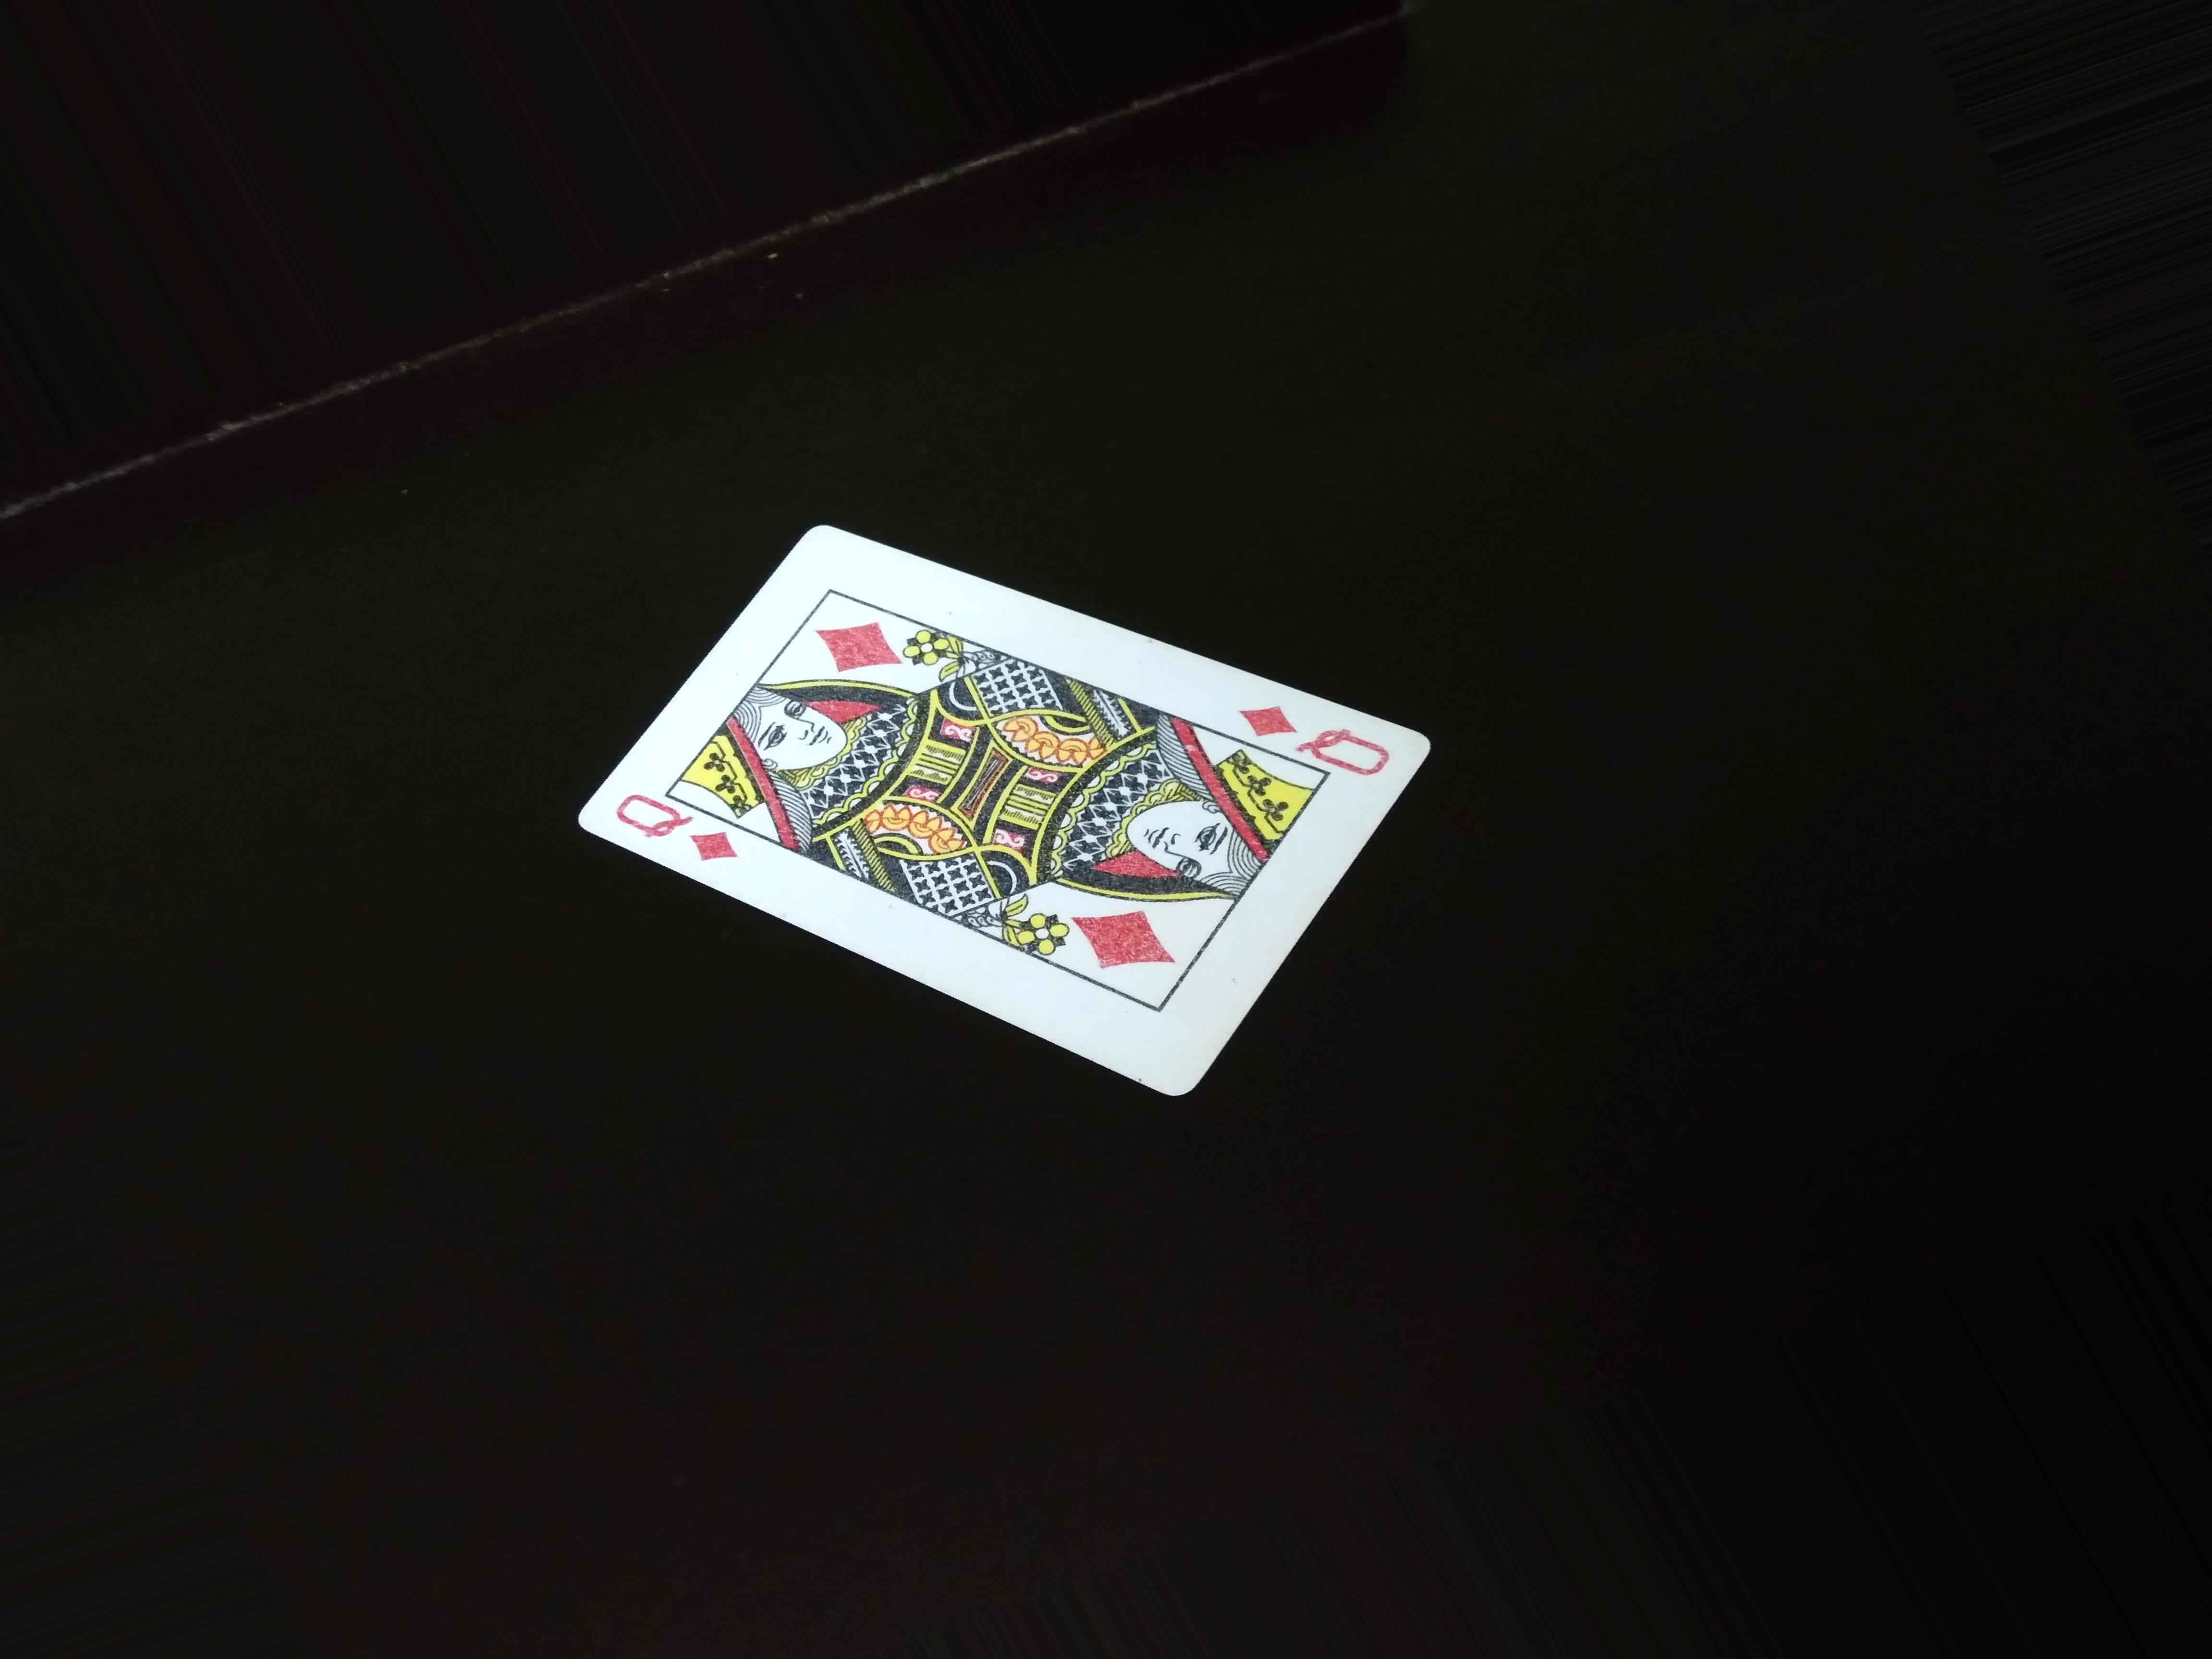QD: (610, 789, 754, 870)
